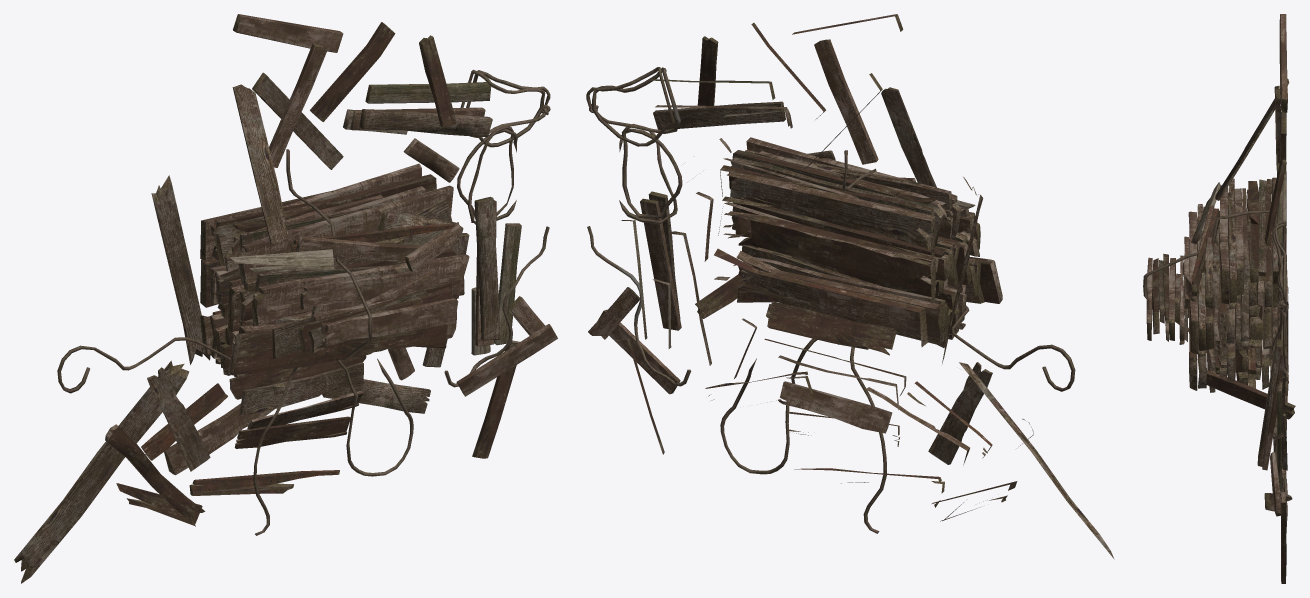
The model's file is GEN_PRO_PlankStack_01B_LOD0-transformed.glb.
The picture shows the model from 3 angles, left to right: view 1: azimuth 30°, elevation 25°; view 2: azimuth 150°, elevation 25°; view 3: azimuth 270°, elevation 25°; orthographic projection. The views are drawn at different scales.
Parts seen in each view (by area): view 1: GEN_PRO_PlankStack_01B_LOD0; view 2: GEN_PRO_PlankStack_01B_LOD0; view 3: GEN_PRO_PlankStack_01B_LOD0.
Boxes of the visible parts, x1=… form: GEN_PRO_PlankStack_01B_LOD0: x1=14, y1=14, x2=557, y2=583; GEN_PRO_PlankStack_01B_LOD0: x1=586, y1=14, x2=1114, y2=559; GEN_PRO_PlankStack_01B_LOD0: x1=1143, y1=14, x2=1295, y2=583.
Size of the model in its own units: 0.1182 by 0.1112 by 0.032.
Materials: 2 (2 with a texture image).
